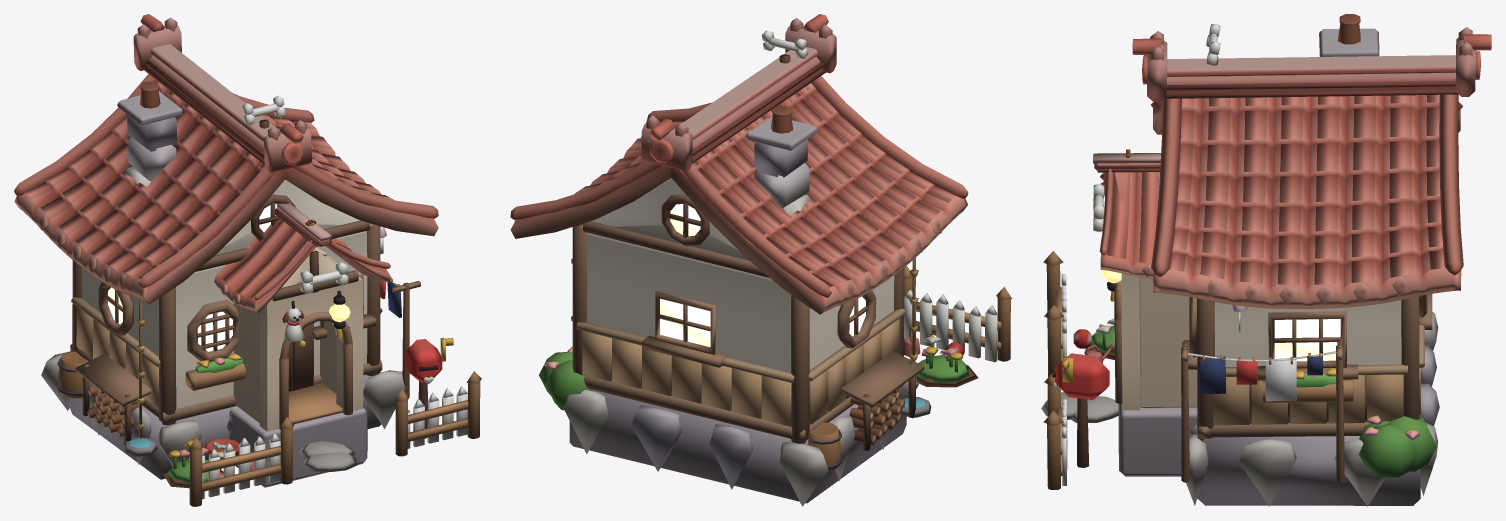
Rendered from chewyHouse-1.glb.
3 views of the same model, side by side, from view 1: azimuth 30°, elevation 25°; view 2: azimuth 150°, elevation 25°; view 3: azimuth 270°, elevation 25° (orthographic). The views are drawn at different scales.
Visible parts, largest first — view 1: chewyHouse, window_glow; view 2: chewyHouse, window_glow; view 3: chewyHouse, window_glow.
Boxes of the visible parts, <box> form: chewyHouse: <box>14,14,481,506</box>; window_glow: <box>108,203,350,351</box>; chewyHouse: <box>510,14,1011,506</box>; window_glow: <box>660,204,865,347</box>; chewyHouse: <box>1041,14,1491,506</box>; window_glow: <box>1101,270,1340,361</box>.
Size of the model in its own units: 3.13 by 3.5 by 3.49.
